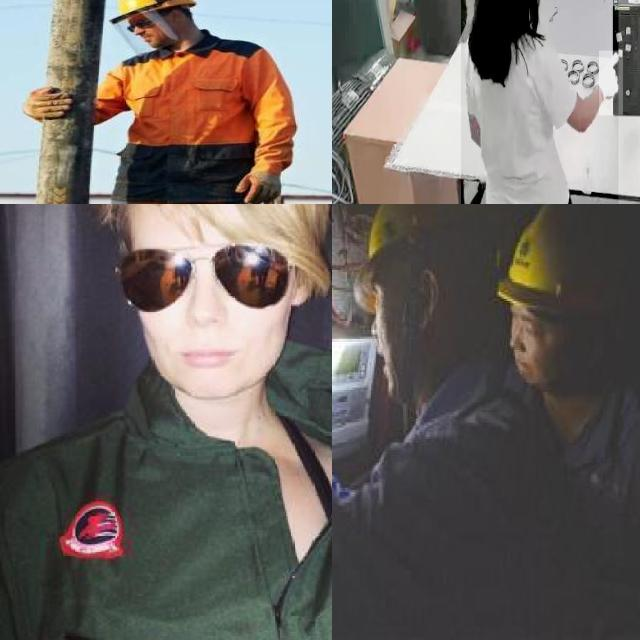face_nomask: (128, 239, 275, 374), (501, 303, 555, 385)
glasses: (111, 237, 311, 311), (120, 15, 170, 38)
hand_glove: (23, 85, 72, 126), (235, 167, 284, 204), (599, 51, 623, 116)
head_helmet: (492, 204, 636, 317), (359, 204, 518, 274), (115, 0, 199, 21)
person: (0, 204, 332, 640), (81, 0, 299, 204), (461, 0, 619, 204)
